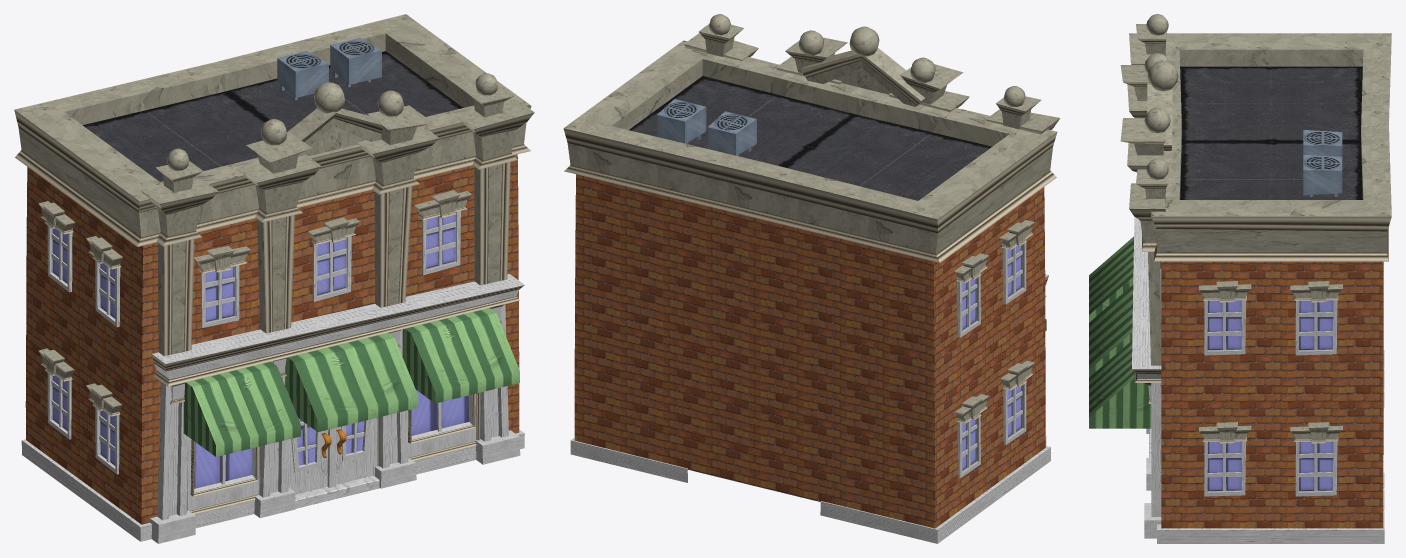
File: AE_BLDG_Generic01.ma.fbx
The picture shows the model from 3 angles, left to right: view 1: azimuth 30°, elevation 25°; view 2: azimuth 150°, elevation 25°; view 3: azimuth 270°, elevation 25°; orthographic projection. The views are drawn at different scales.
Visible parts, largest first — view 1: AE_BLDG_Generic01; view 2: AE_BLDG_Generic01; view 3: AE_BLDG_Generic01.
Part boxes in pixels (x1,y1,x2,y2): AE_BLDG_Generic01: (14, 14, 534, 543); AE_BLDG_Generic01: (563, 14, 1060, 543); AE_BLDG_Generic01: (1089, 14, 1391, 543).
Bounding box in the file's own units: 1002 × 982 × 686.
Materials: 11 (11 with a texture image).
